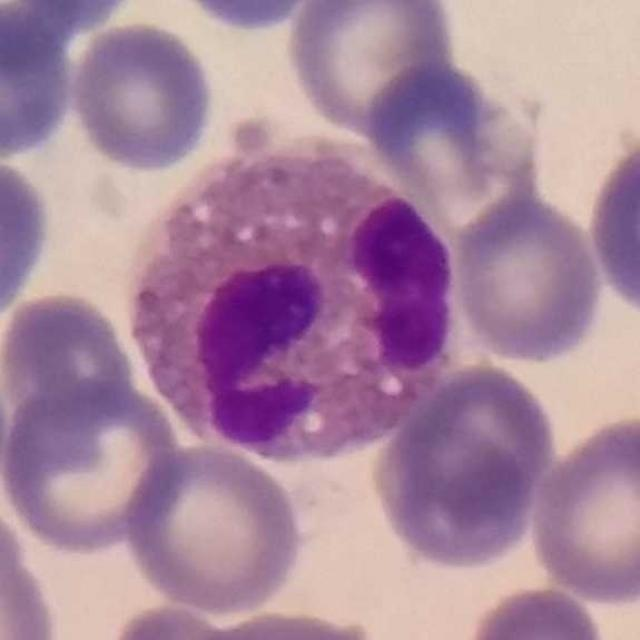Eosinophil: (118, 113, 483, 482)
RBC: (366, 358, 560, 574), (0, 375, 188, 557), (122, 442, 308, 617), (367, 62, 541, 243), (447, 192, 608, 368), (280, 0, 462, 139), (66, 18, 219, 175), (524, 410, 640, 608), (0, 287, 139, 433), (0, 6, 79, 162), (584, 129, 640, 324), (0, 149, 57, 332), (0, 496, 65, 640), (459, 582, 611, 640), (172, 604, 390, 640), (0, 1, 134, 55), (156, 0, 349, 36), (97, 601, 266, 640)
